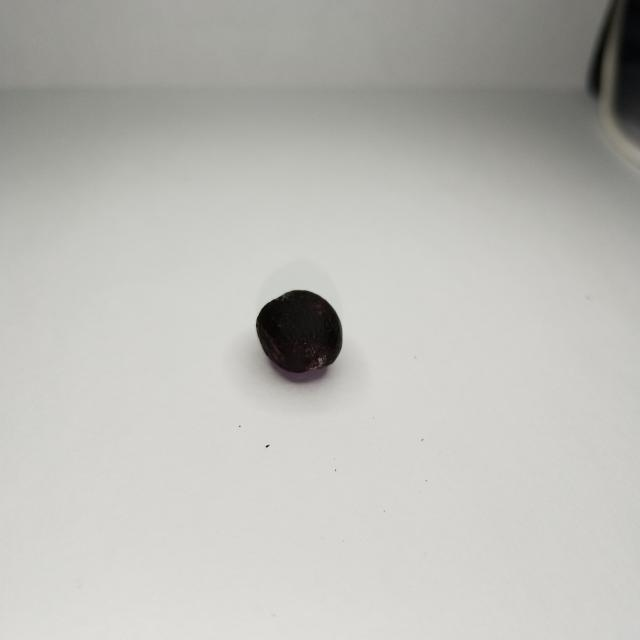Danado: (256, 292, 342, 372)
